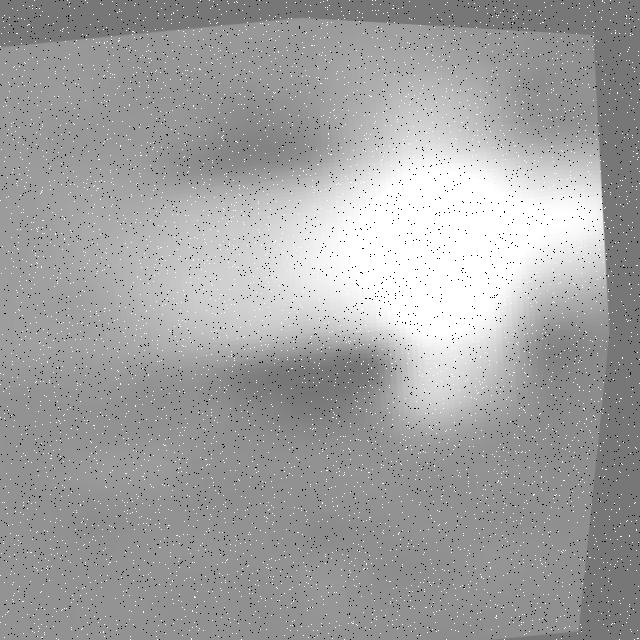person: (94, 19, 640, 470)
